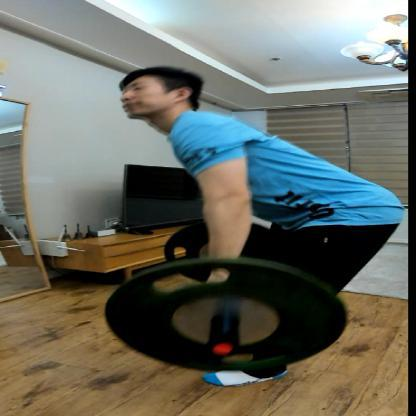Barbell: (198, 337, 254, 361)
